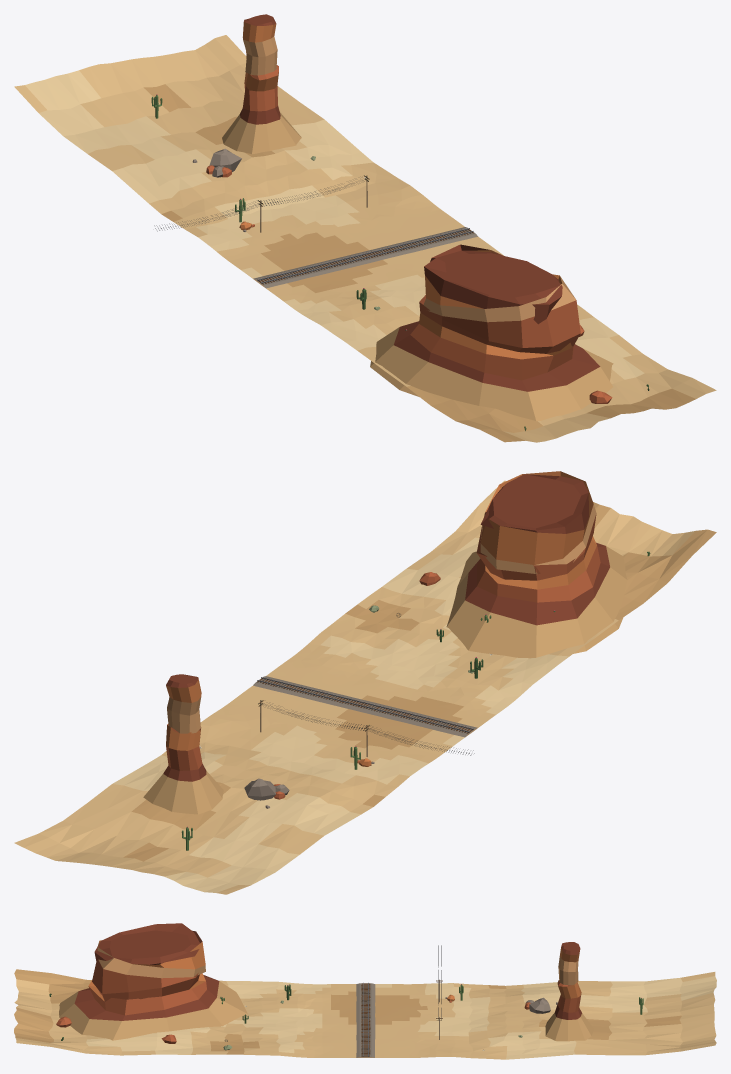
File: chunk_mesa.glb
3 renders of one model, top to bottom at view 1: azimuth 30°, elevation 25°; view 2: azimuth 150°, elevation 25°; view 3: azimuth 270°, elevation 25°, orthographic. The views are drawn at different scales.
Visible parts, largest first — view 1: FG_Chunk_Mesa_A_Track; view 2: FG_Chunk_Mesa_A_Track; view 3: FG_Chunk_Mesa_A_Track.
Boxes of the visible parts, x1,y1,x2,y2 form: FG_Chunk_Mesa_A_Track: (14, 14, 716, 442); FG_Chunk_Mesa_A_Track: (14, 471, 716, 894); FG_Chunk_Mesa_A_Track: (14, 923, 716, 1059).
Size of the model in its own units: 62.51 by 28.33 by 201.
